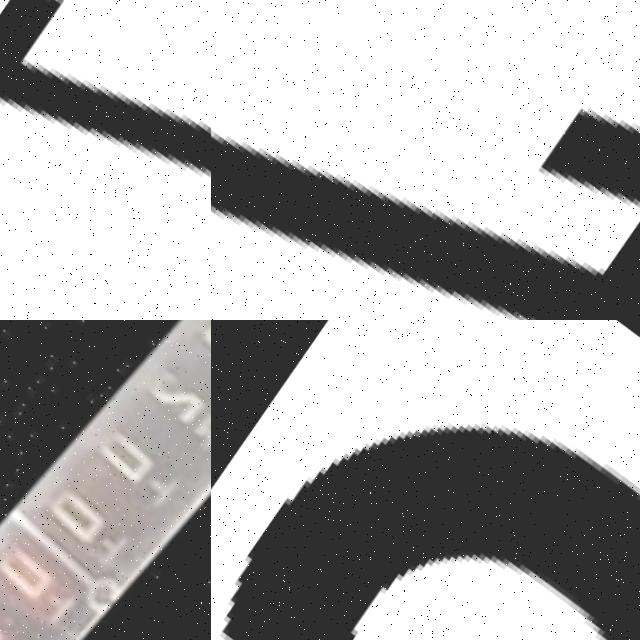0: (80, 414, 161, 488), (33, 474, 114, 548), (0, 529, 58, 603), (186, 320, 211, 370)
2: (132, 359, 206, 425)
C: (213, 423, 640, 640)
J: (211, 0, 640, 320)
T: (0, 0, 211, 320)
